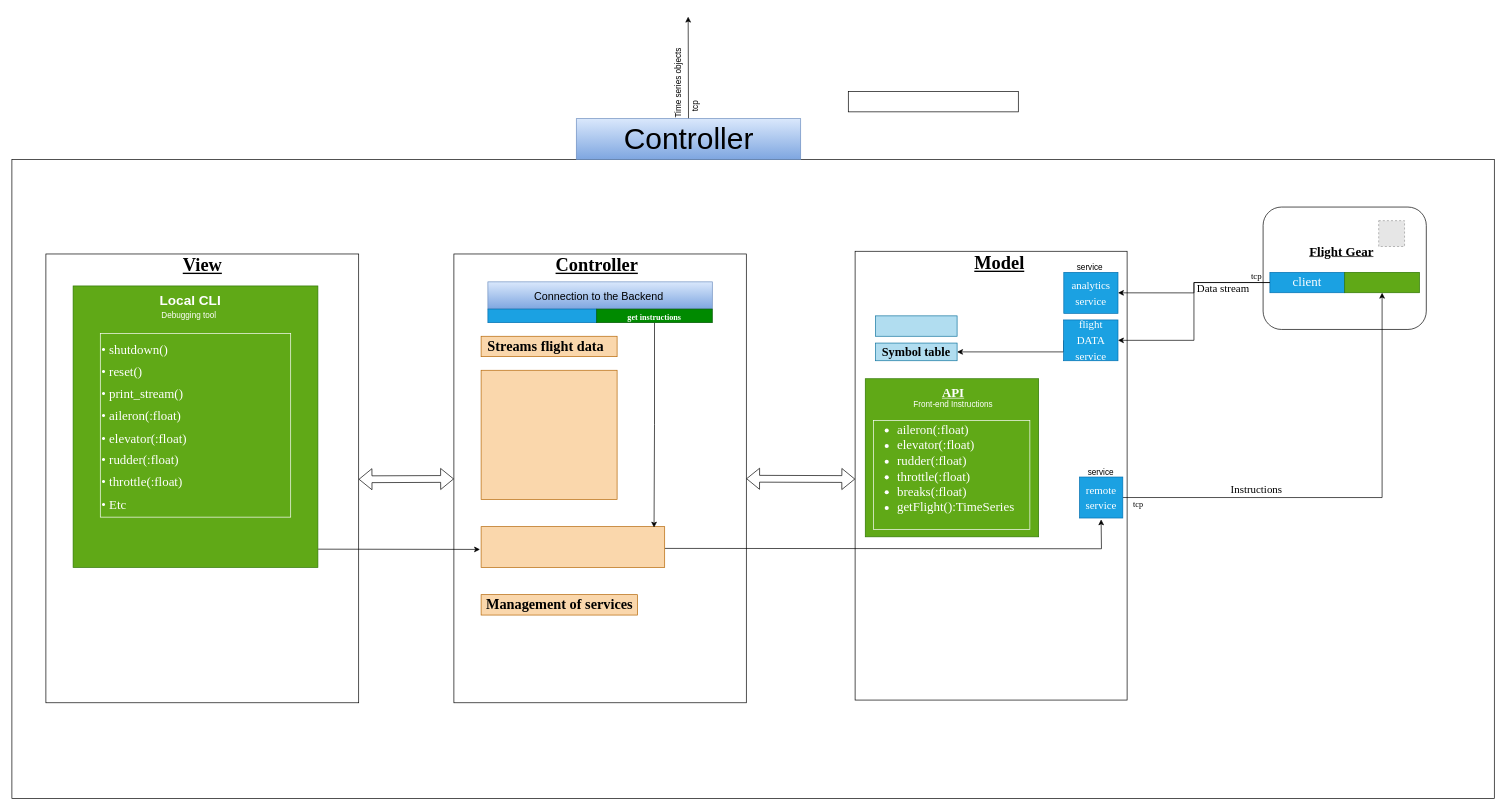
Some shapes in this 1506 by 811 pixel diagram are drawn without their labels. Grey dashed boxes stand in for pictures. Here are the shapes that lost their labels. From the top down, the box of each, then its label:
(848, 91, 1018, 112): HTTP/socket?
(1344, 272, 1420, 293): server
(487, 308, 597, 323): send data
(875, 315, 957, 336): Time Series
(480, 370, 617, 499): Performs analytics start& end times From-to Max alititude Max speed
(480, 526, 665, 567): Handles remote instructions Prioritizes and centralizes instructions
